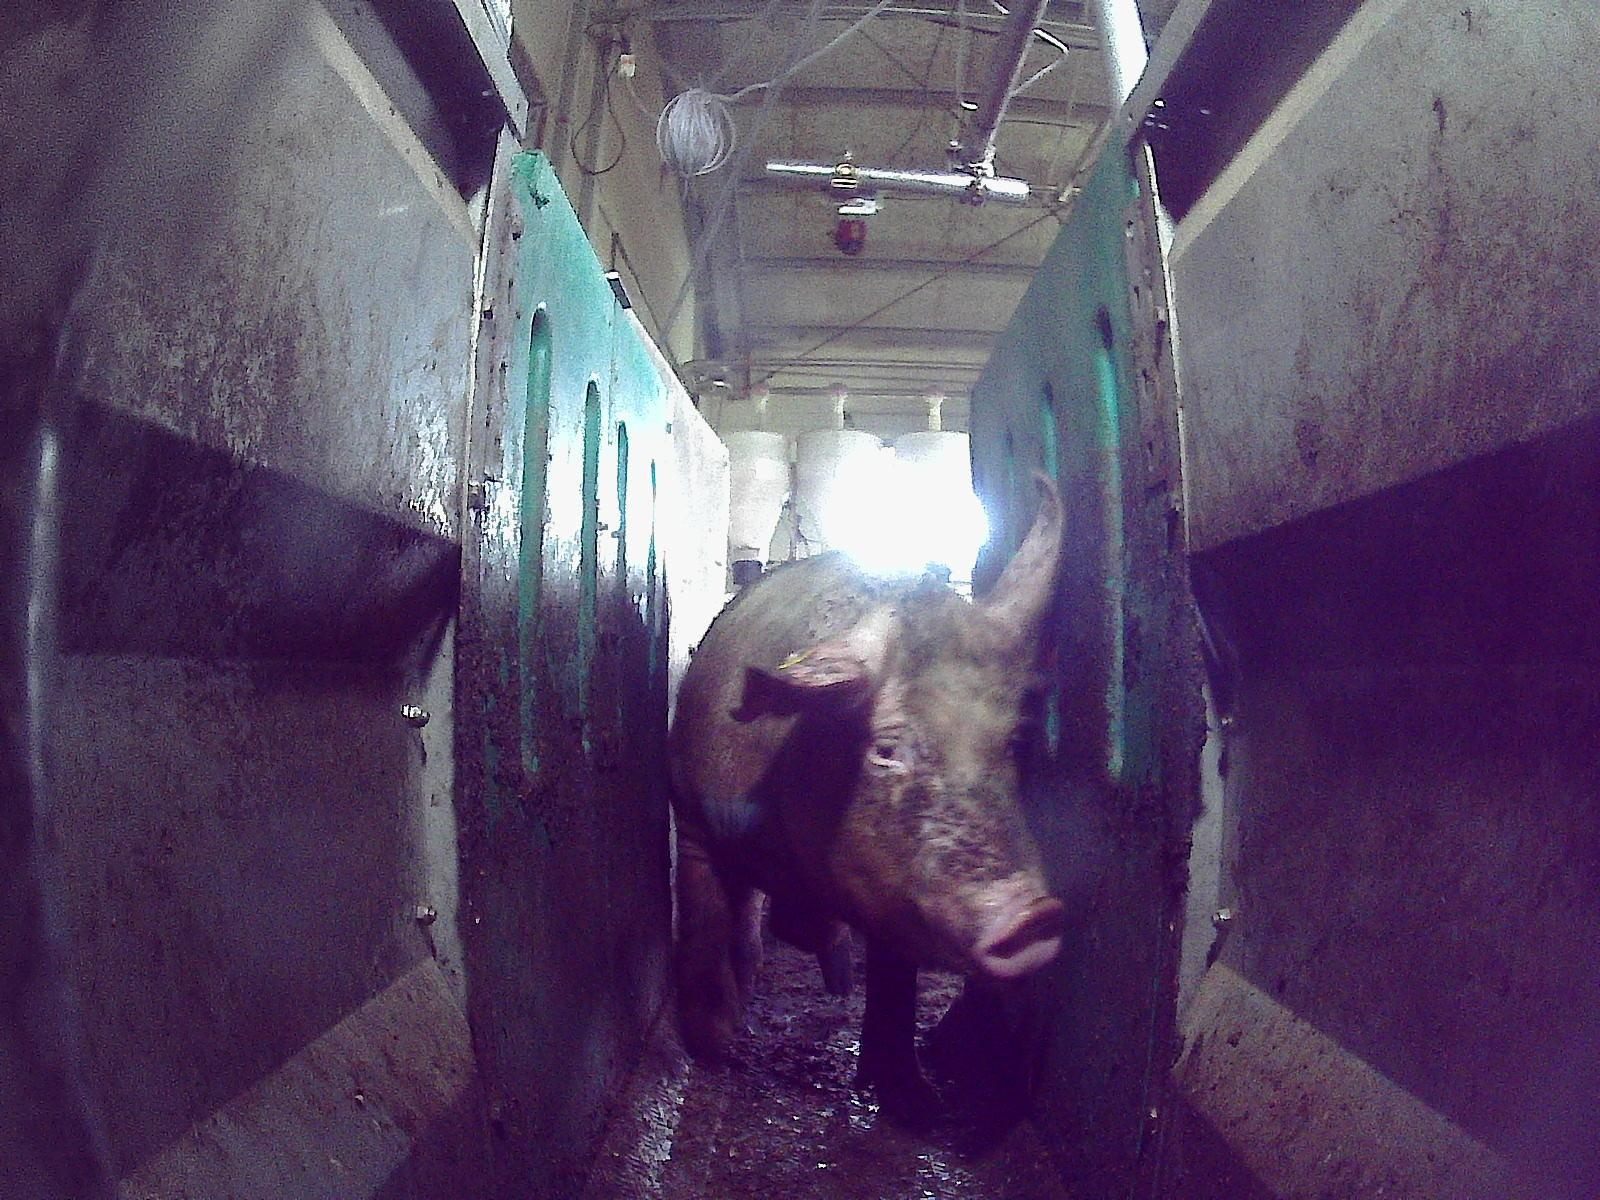Face: (791, 585, 1062, 982)
